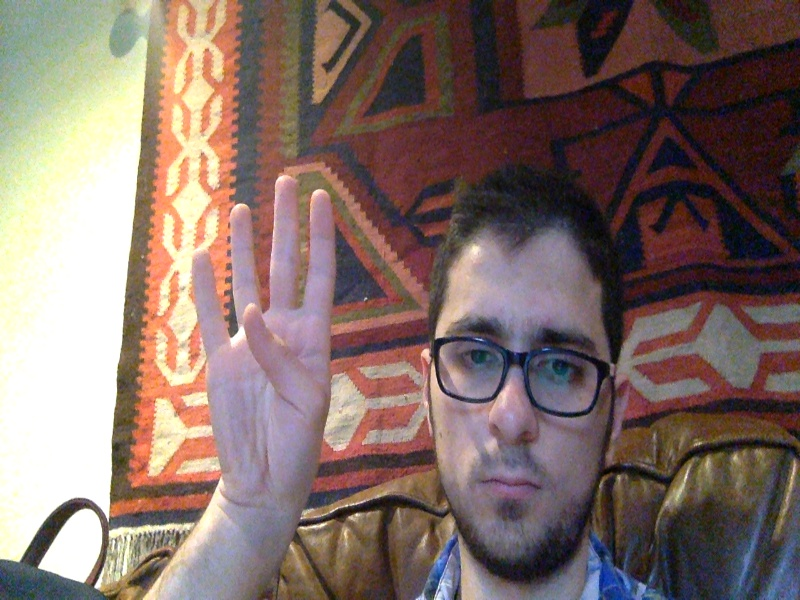4-hand: (190, 174, 333, 521)
